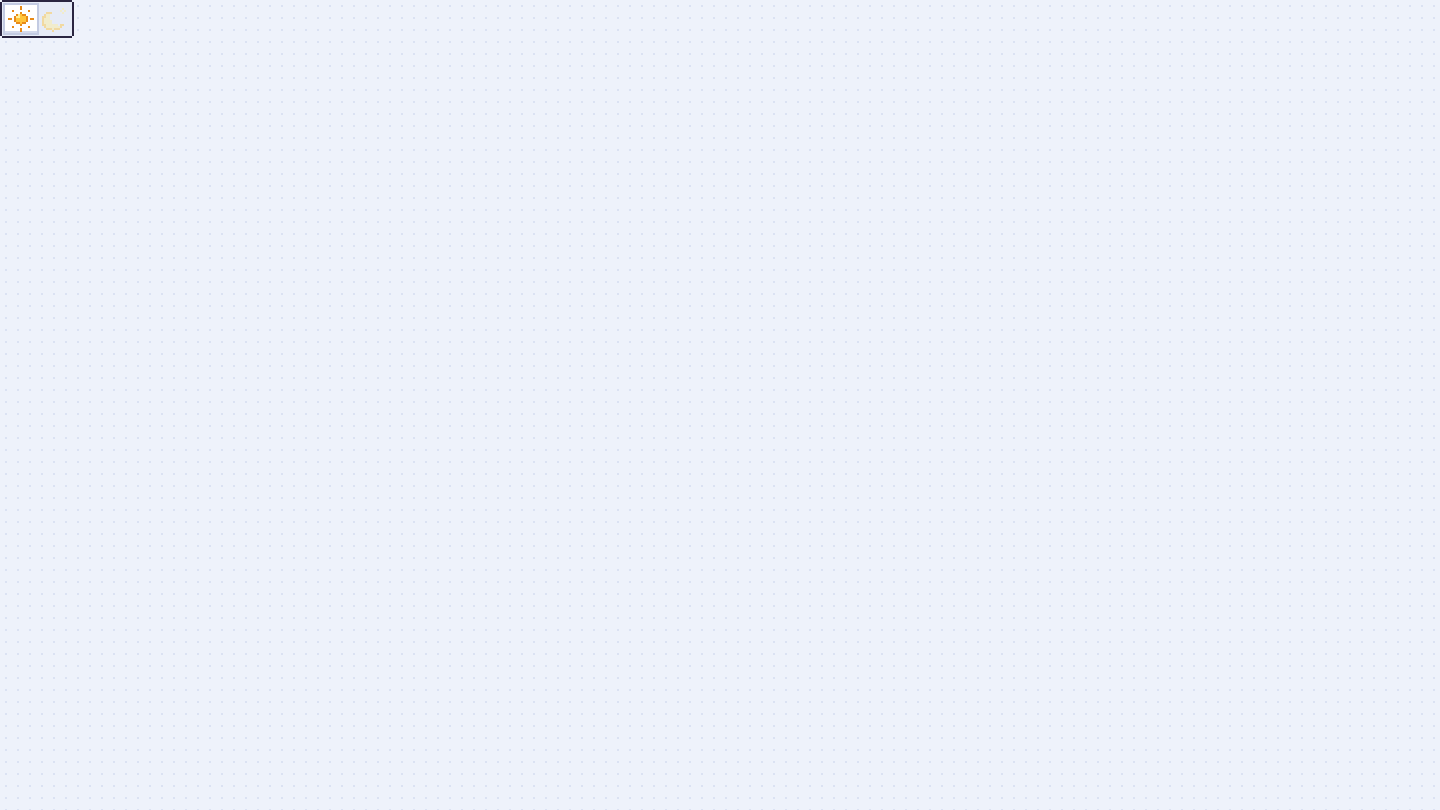
Test: ThemeToggle › switches the theme on <html> and remembers the choice
Later steps or results of the test are not shown.
What coordinates should you click on to do the following:
click the switch named "Tmavý režim"
I would click on:
 (37, 19)
Its box is [2, 2, 72, 36].
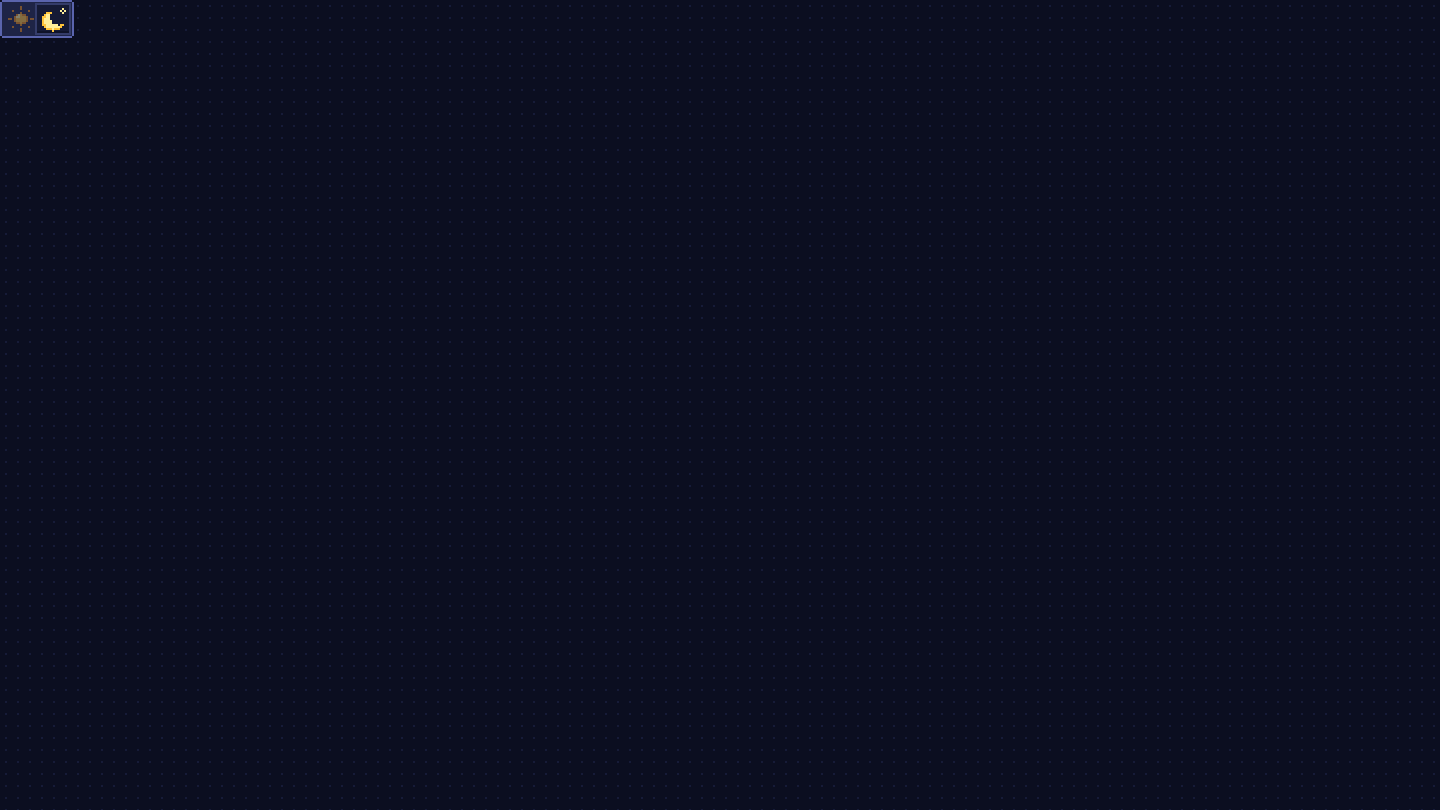
Result: the switch named "Tmavý režim" is checked at [2, 2, 72, 36]
